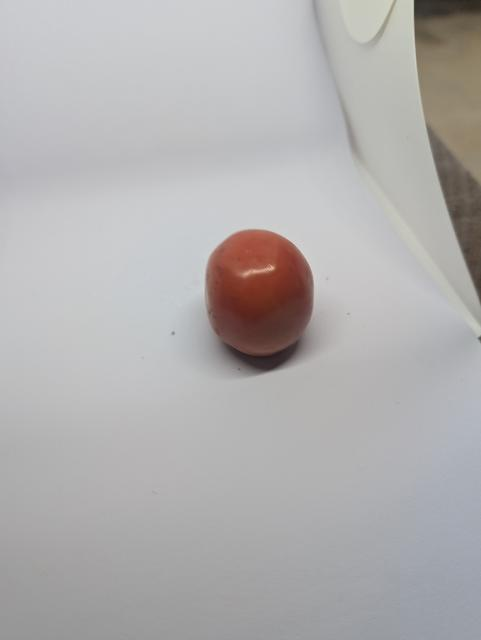red: (200, 226, 320, 358)
